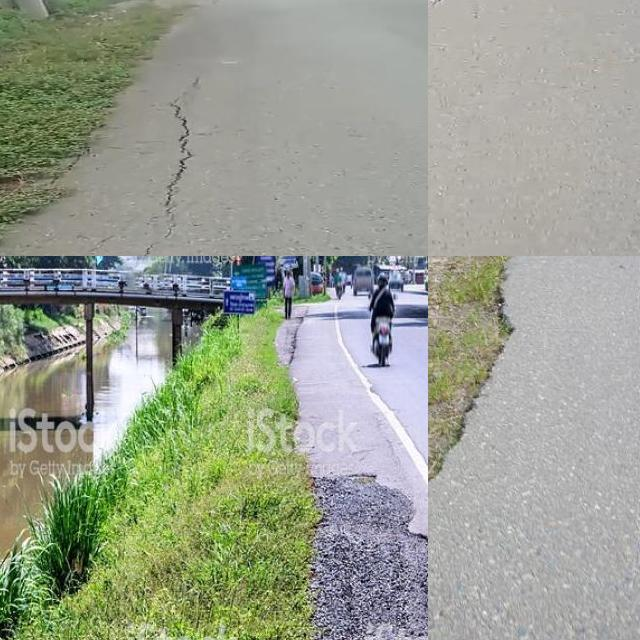Pinggir: (0, 0, 258, 253), (428, 256, 540, 560), (269, 465, 428, 640)
